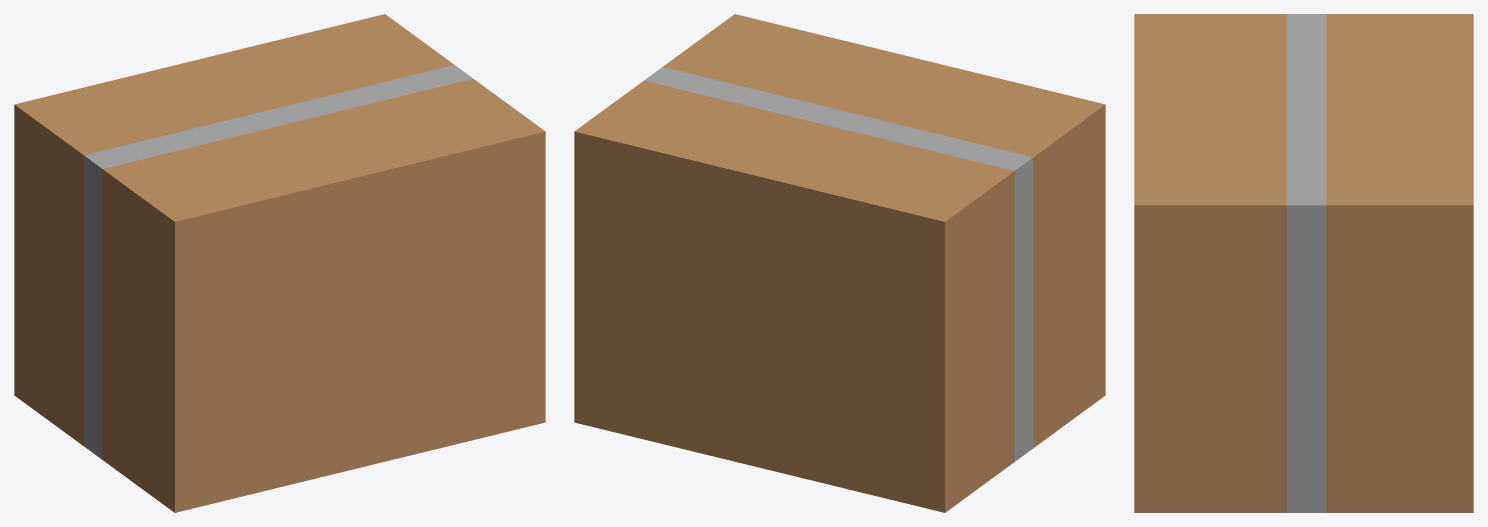
File: Carbord Box.glb
3 views of the same model, side by side, from view 1: azimuth 30°, elevation 25°; view 2: azimuth 150°, elevation 25°; view 3: azimuth 270°, elevation 25° (orthographic). The views are drawn at different scales.
Parts seen in each view (by area): view 1: Cube; view 2: Cube; view 3: Cube.
Boxes of the visible parts, x1=… form: Cube: x1=14, y1=14, x2=545, y2=512; Cube: x1=574, y1=14, x2=1105, y2=512; Cube: x1=1134, y1=14, x2=1473, y2=512.
Size of the model in its own units: 0.3 by 0.225 by 0.225.
